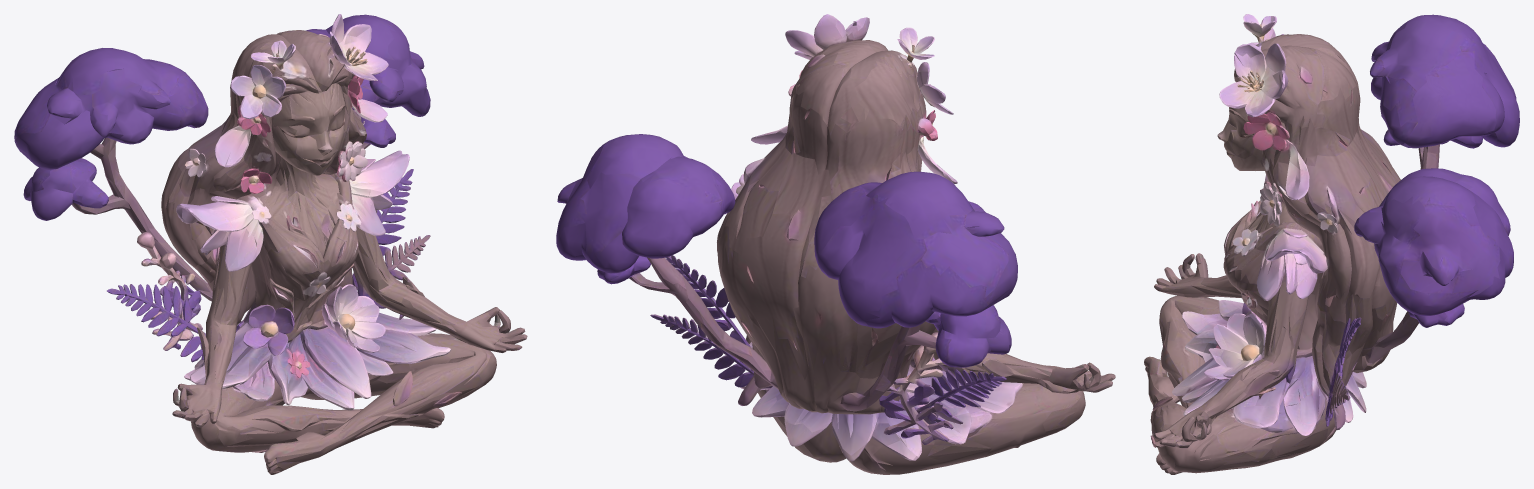
File: teacher-closed.glb
3 views of the same model, side by side, from view 1: azimuth 30°, elevation 25°; view 2: azimuth 150°, elevation 25°; view 3: azimuth 270°, elevation 25° (orthographic). The views are drawn at different scales.
Visible parts, largest first — view 1: output_unwrapped; view 2: output_unwrapped; view 3: output_unwrapped.
Part boxes in pixels (<box>): output_unwrapped: <box>14,14,527,474</box>; output_unwrapped: <box>556,14,1115,474</box>; output_unwrapped: <box>1144,14,1519,474</box>.
Bounding box in the file's own units: 1.9 × 1.76 × 1.46.
Materials: 1 (1 with a texture image).
